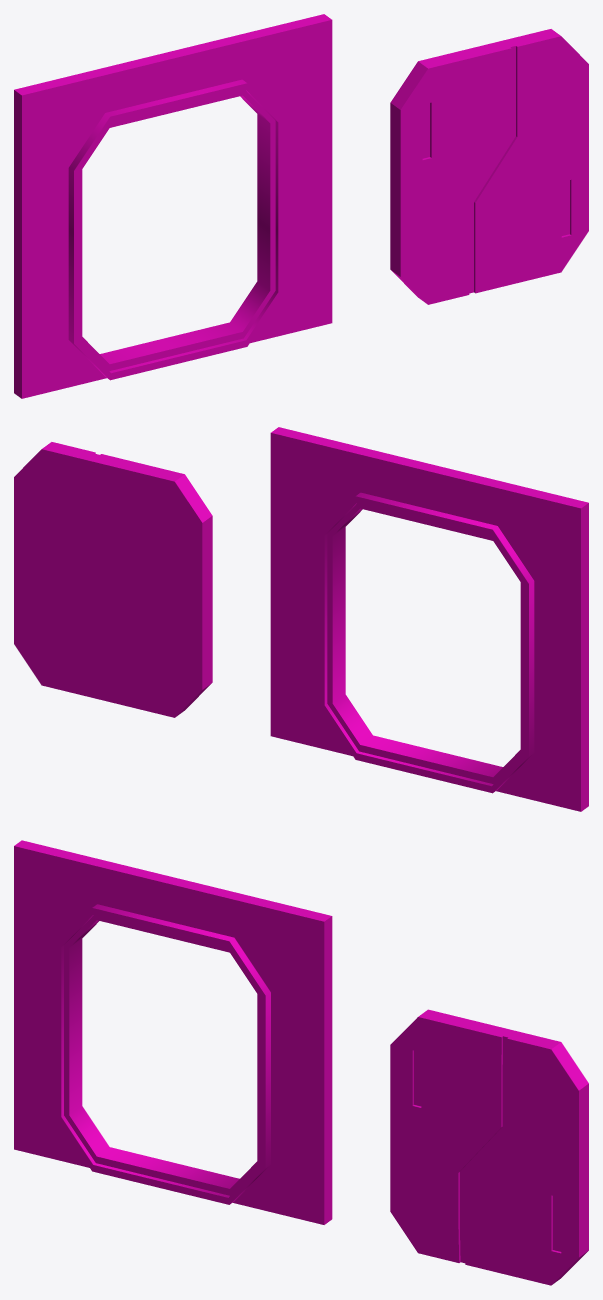
Rendered from wall_Door_Small.fbx.
The picture shows the model from 3 angles, top to bottom: view 1: azimuth 30°, elevation 25°; view 2: azimuth 150°, elevation 25°; view 3: azimuth 330°, elevation 25°; orthographic projection.
Parts seen in each view (by area): view 1: small_door_R.001, small_door_wall_R.001, small_door_Frame_R.001; view 2: small_door_R.001, small_door_wall_R.001, small_door_Frame_R.001; view 3: small_door_R.001, small_door_wall_R.001, small_door_Frame_R.001.
Part boxes in pixels (x1,y1,x2,y2): small_door_R.001: (390,29,588,304); small_door_wall_R.001: (14,14,332,398); small_door_Frame_R.001: (68,79,283,380); small_door_R.001: (14,442,212,717); small_door_wall_R.001: (270,427,588,811); small_door_Frame_R.001: (319,492,534,793); small_door_R.001: (390,1009,588,1285); small_door_wall_R.001: (14,840,332,1224); small_door_Frame_R.001: (56,904,270,1204).
Bounding box in the file's own units: 752 × 390 × 41.3.
